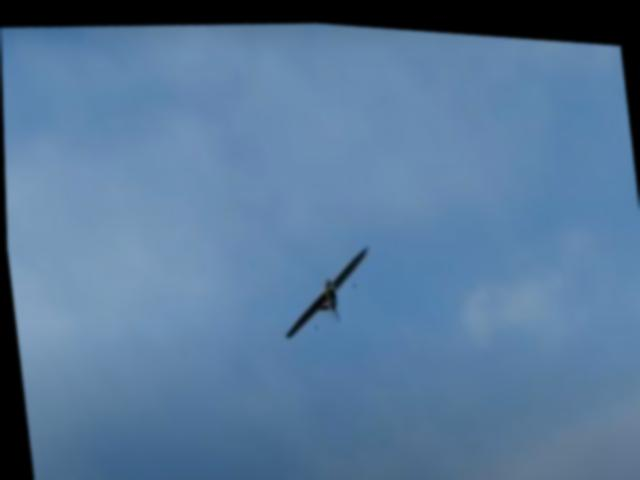uav: (272, 223, 379, 345)
